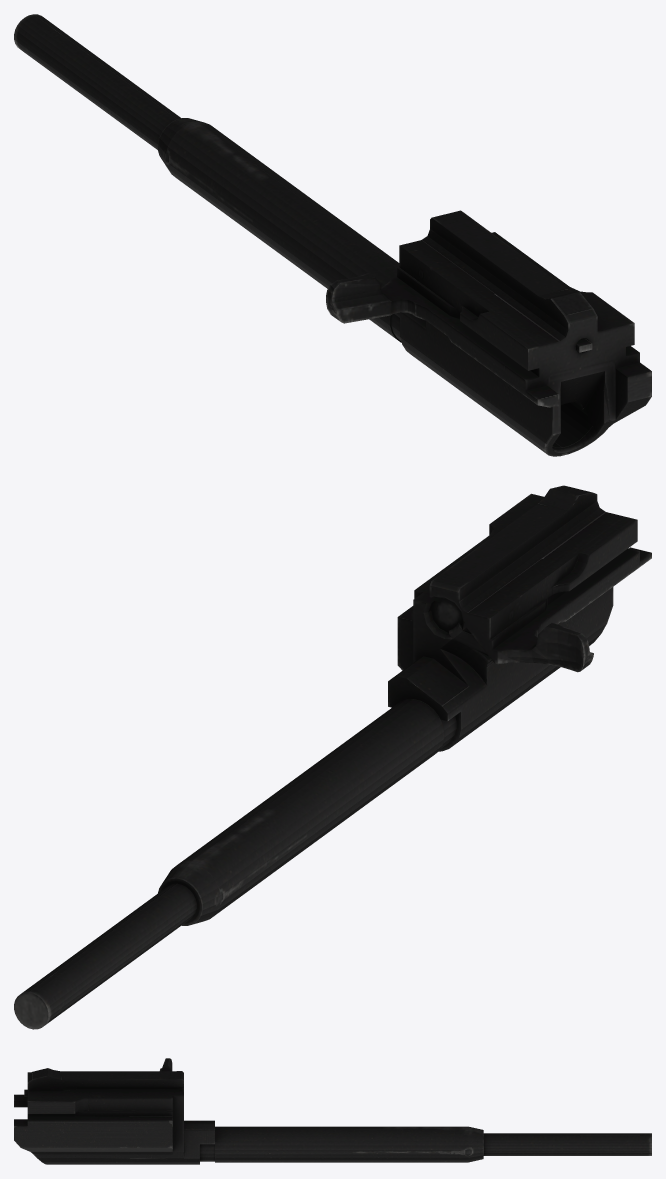
3 renders of one model, top to bottom at view 1: azimuth 30°, elevation 25°; view 2: azimuth 150°, elevation 25°; view 3: azimuth 270°, elevation 25°, orthographic. The views are drawn at different scales.
Parts seen in each view (by area): view 1: TW_59984ab886f7743e98271174_PZ_Import; view 2: TW_59984ab886f7743e98271174_PZ_Import; view 3: TW_59984ab886f7743e98271174_PZ_Import.
Boxes of the visible parts, left/top/right/bottom form: TW_59984ab886f7743e98271174_PZ_Import: left=14, top=14, right=651, bottom=456; TW_59984ab886f7743e98271174_PZ_Import: left=14, top=485, right=651, bottom=1029; TW_59984ab886f7743e98271174_PZ_Import: left=14, top=1058, right=651, bottom=1164.
Bounding box in the file's own units: 0.0312 × 0.1636 × 0.0257.
Materials: 1 (1 with a texture image).
